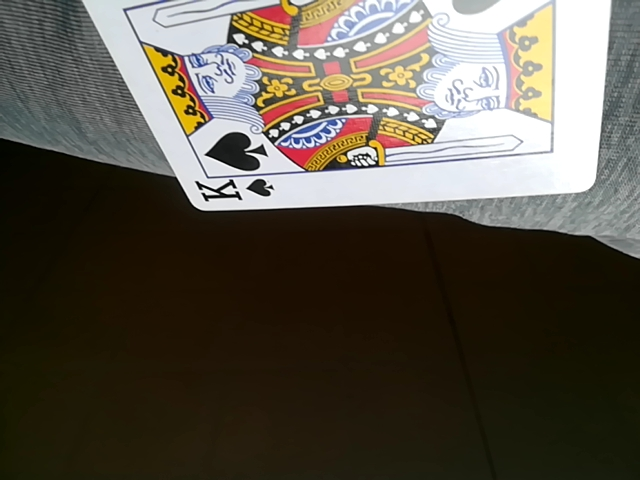ht k: (89, 2, 609, 214)
